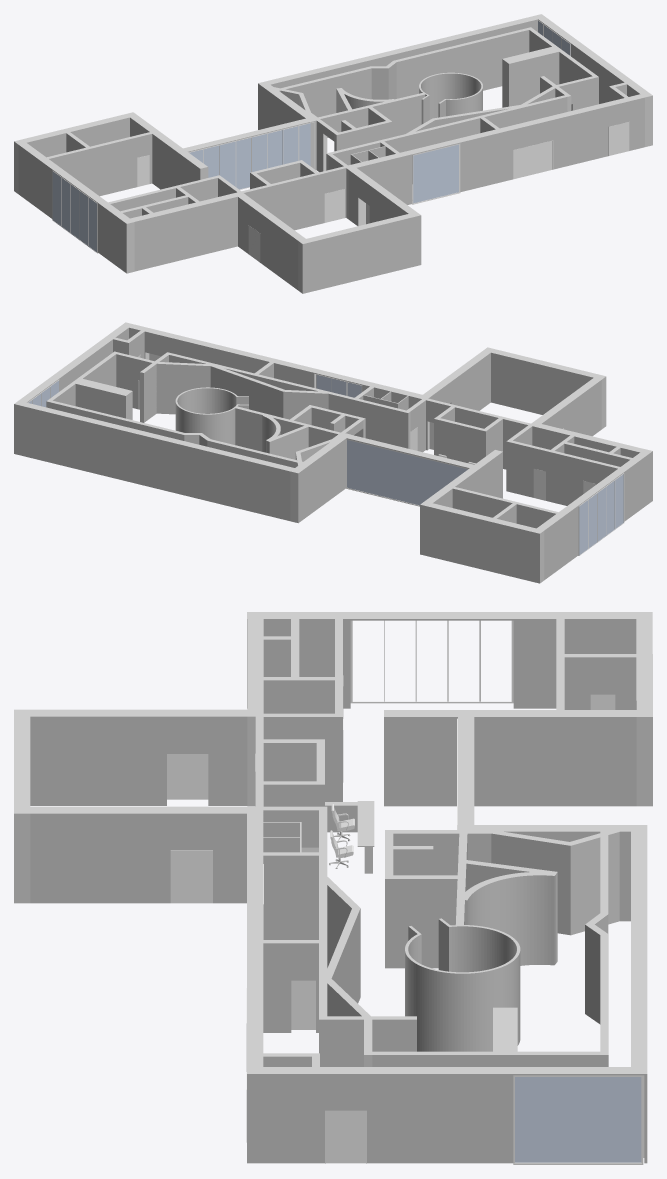
Rendered from VDNH-GLB.glb.
The picture shows the model from 3 angles, top to bottom: view 1: azimuth 30°, elevation 25°; view 2: azimuth 150°, elevation 25°; view 3: azimuth 270°, elevation 25°; orthographic projection. The views are drawn at different scales.
Size of the model in its own units: 0.0665 by 0.0061 by 0.0388.
